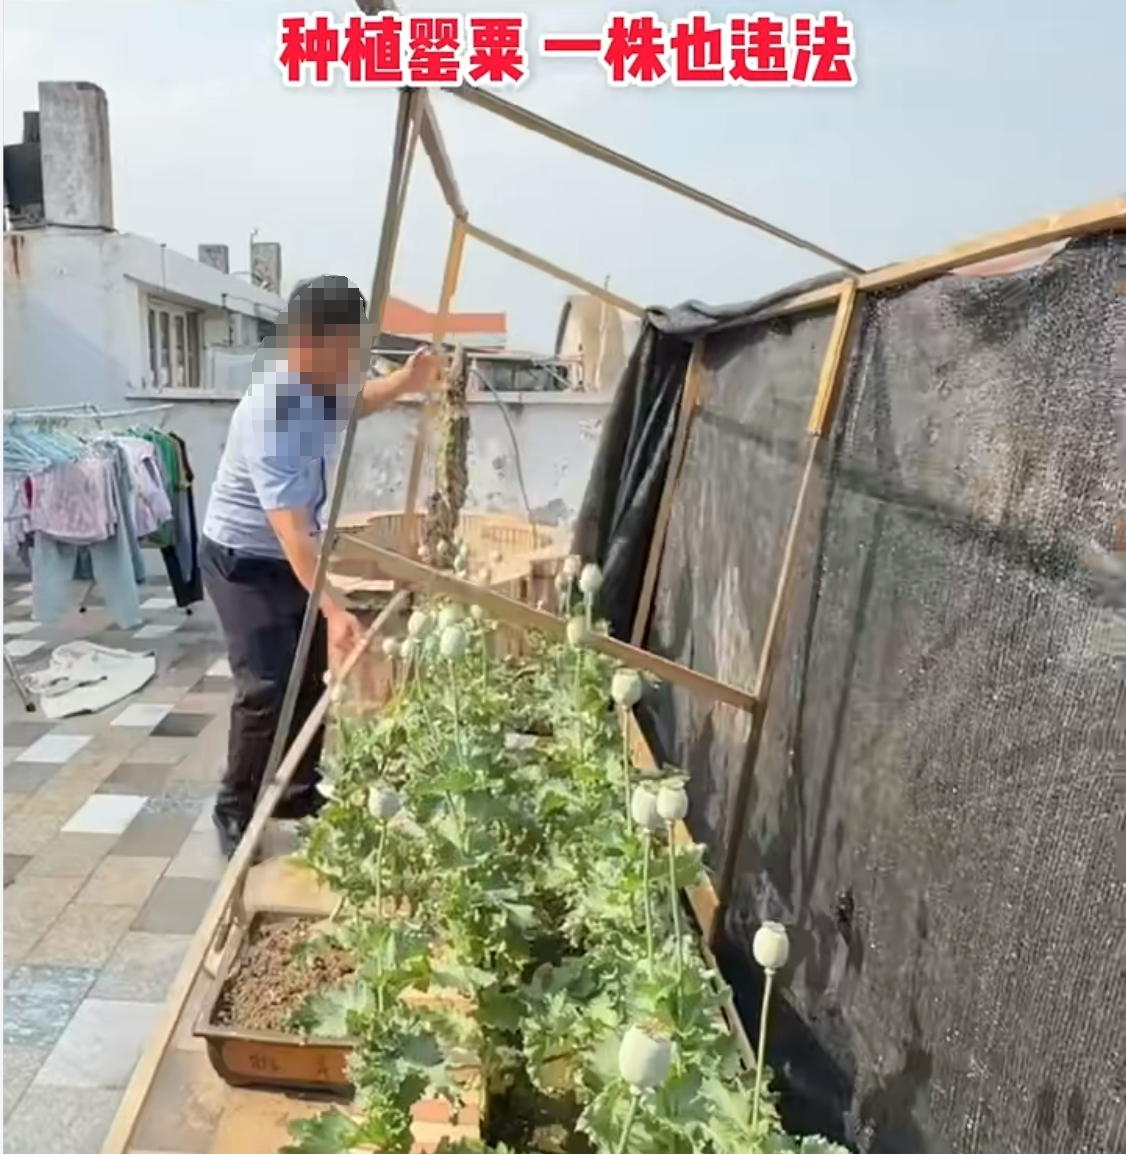Poppy: (298, 553, 824, 1153)
